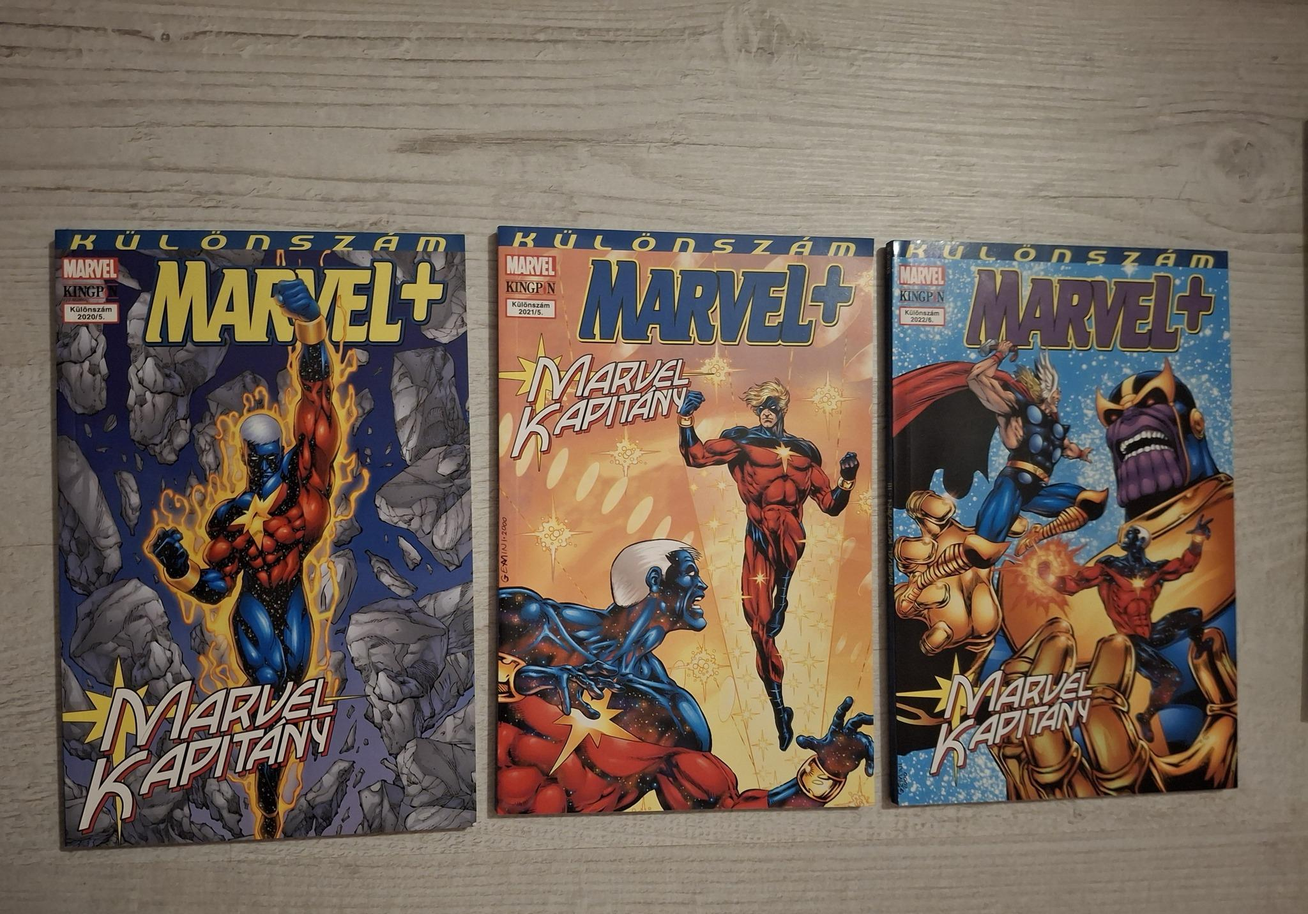comic: (49, 221, 479, 846), (495, 226, 876, 815), (886, 241, 1236, 803)
